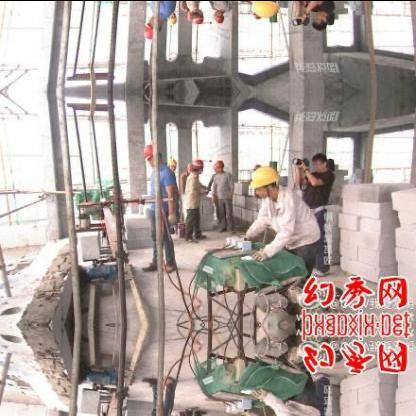Helmet: (248, 162, 280, 200), (248, 0, 281, 19), (140, 141, 160, 169), (140, 11, 160, 39), (210, 157, 224, 173), (210, 7, 224, 23), (190, 5, 202, 22), (190, 158, 202, 174), (165, 155, 177, 171), (165, 9, 177, 25)
No Helmet: (308, 149, 328, 173), (308, 7, 328, 31)
